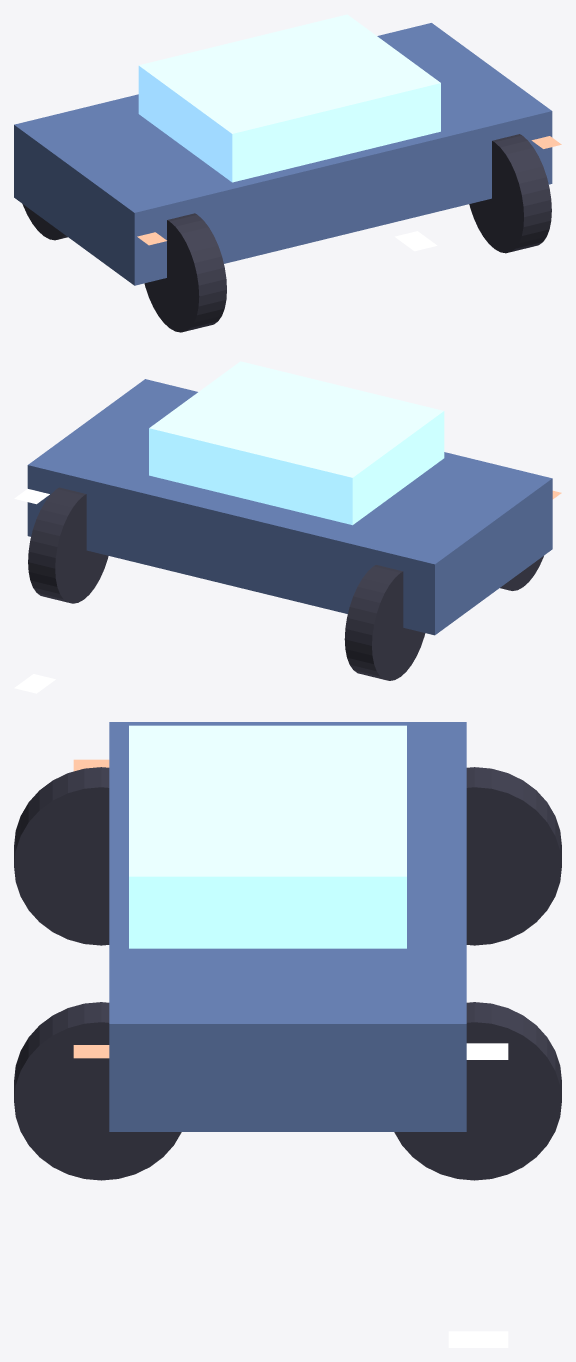
Rendered from car.glb.
3 views of the same model, one above another, from view 1: azimuth 30°, elevation 25°; view 2: azimuth 150°, elevation 25°; view 3: azimuth 270°, elevation 25° (orthographic). The views are drawn at different scales.
Visible parts, largest first — view 1: car_body, cabin, wheel.003, wheel.002, wheel.001, headlight; view 2: car_body, cabin, wheel.001, wheel, wheel.003, headlight; view 3: car_body, cabin, wheel.002, wheel, wheel.001, wheel.003, headlight.
Boxes of the visible parts, bbox=[...] form: car_body: bbox=[14, 23, 552, 285]; cabin: bbox=[138, 14, 440, 182]; wheel.003: bbox=[144, 213, 226, 332]; wheel.002: bbox=[469, 134, 551, 253]; wheel.001: bbox=[22, 204, 67, 240]; headlight: bbox=[395, 231, 437, 251]; car_body: bbox=[27, 379, 552, 635]; cabin: bbox=[149, 361, 444, 525]; wheel.001: bbox=[344, 565, 425, 680]; wheel: bbox=[28, 487, 108, 603]; wheel.003: bbox=[500, 556, 543, 590]; headlight: bbox=[14, 674, 55, 693]; car_body: bbox=[109, 722, 466, 1131]; cabin: bbox=[129, 725, 406, 948]; wheel.002: bbox=[14, 1002, 181, 1180]; wheel: bbox=[394, 1002, 561, 1180]; wheel.001: bbox=[466, 767, 561, 945]; wheel.003: bbox=[14, 767, 109, 945]; headlight: bbox=[448, 1331, 508, 1347].
Size of the model in its own units: 1.8 by 1.1 by 1.38.
